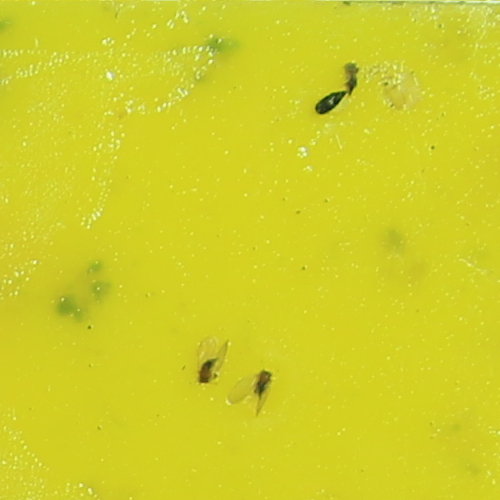psylla: (195, 354, 222, 386), (253, 364, 275, 398)
